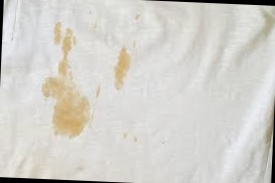coffee: (48, 95, 90, 140), (40, 71, 78, 97), (113, 46, 134, 90), (59, 27, 74, 73), (51, 19, 63, 44)
